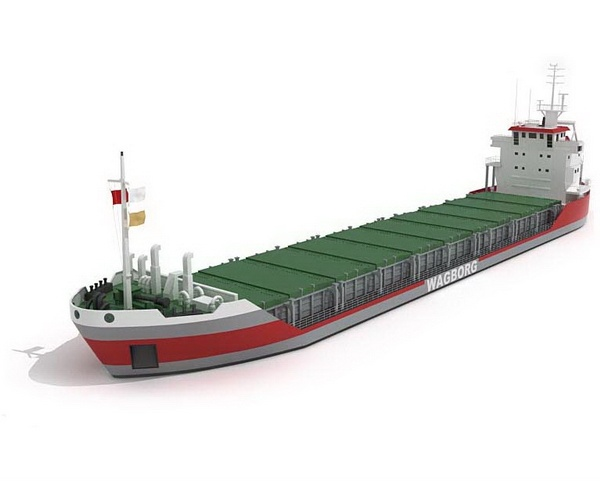Cargoship: (72, 59, 590, 375)
